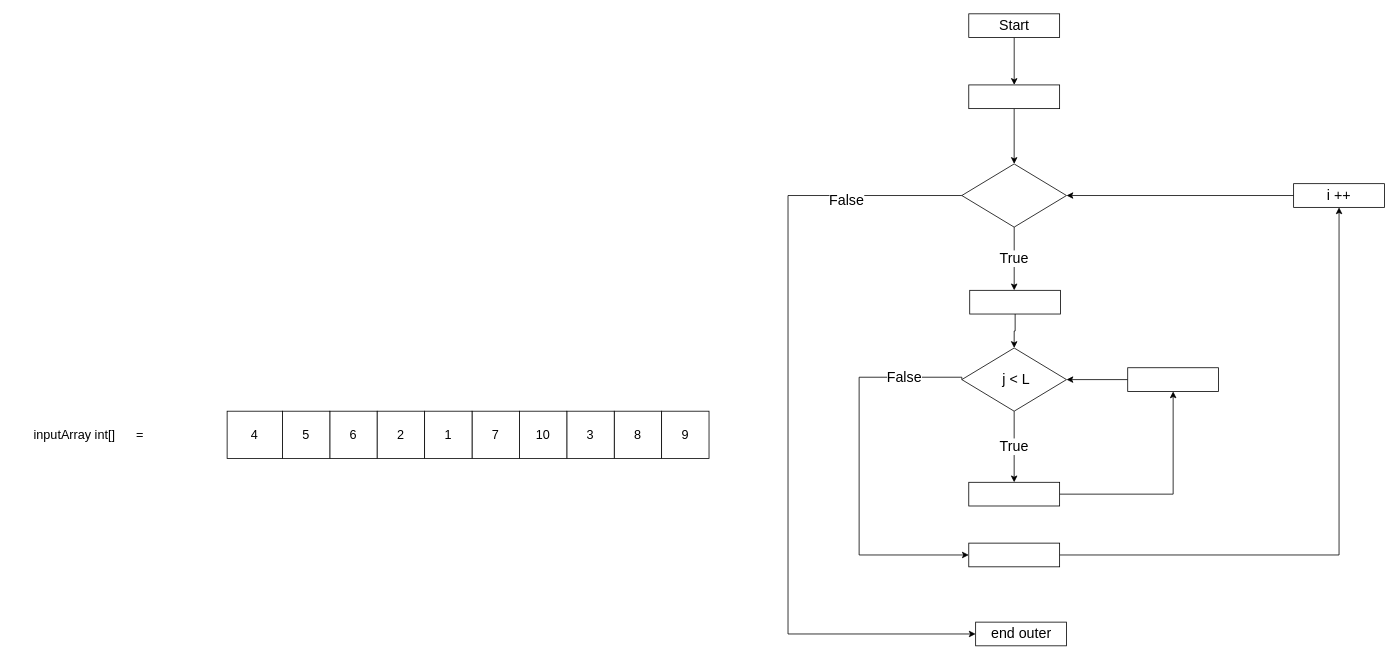
This 1398x660 diagram has some shape labels left out. Each missing label, with the centre of its shape:
"end inner" goes at point 1014,554.
"i < L" goes at point 1013,195.
"i = 0" goes at point 1014,96.
"j ++" goes at point 1173,379.
"j = i+1" goes at point 1015,302.
"swap" goes at point 1014,494.
